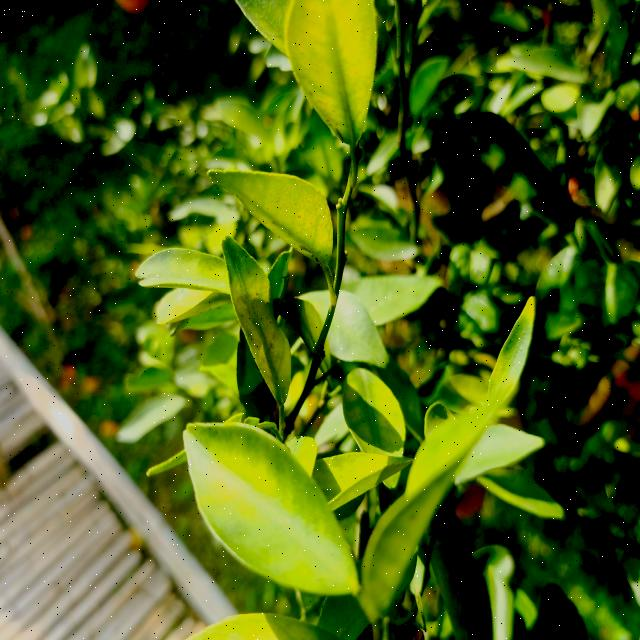blackspot: (221, 242, 294, 408), (228, 168, 333, 268), (286, 14, 366, 145)
